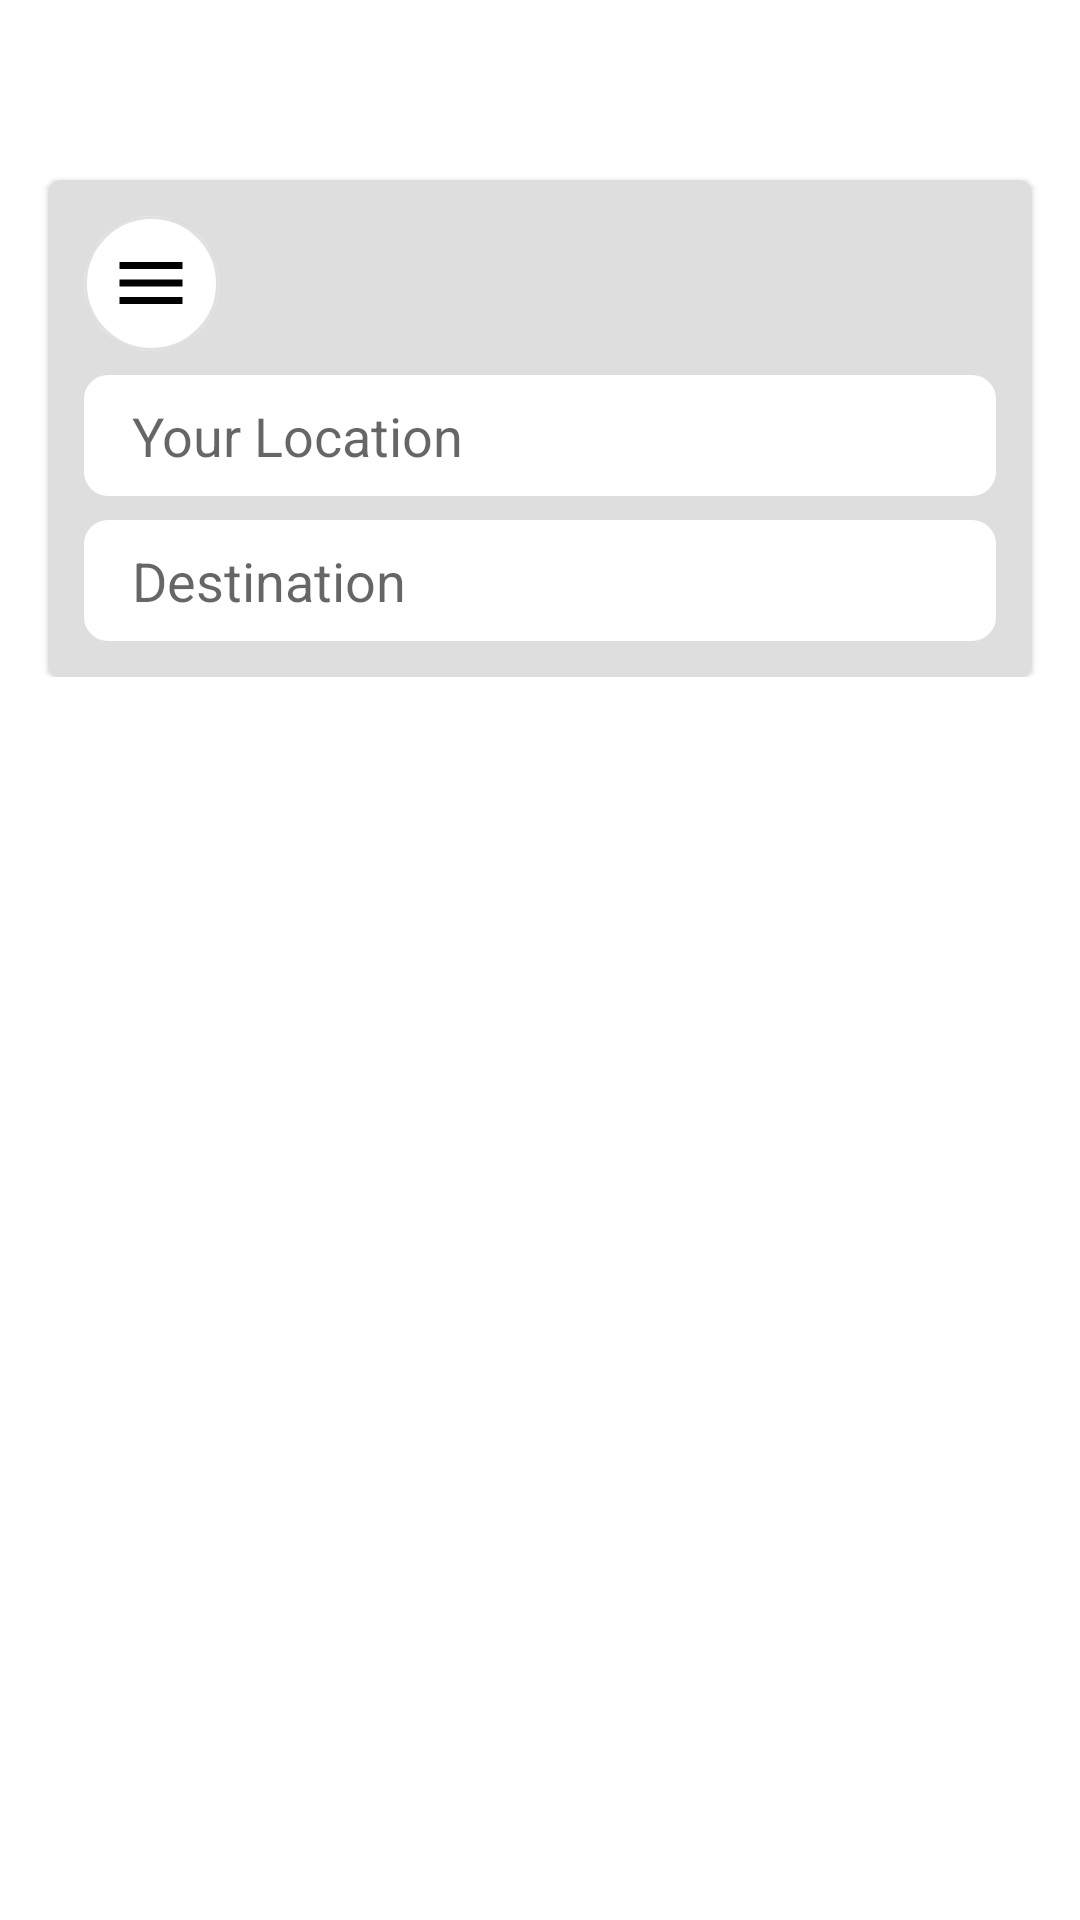

Where to tap for icons on this 1080*1920 app screen, as point (x, y):
menu: point (151, 283)
